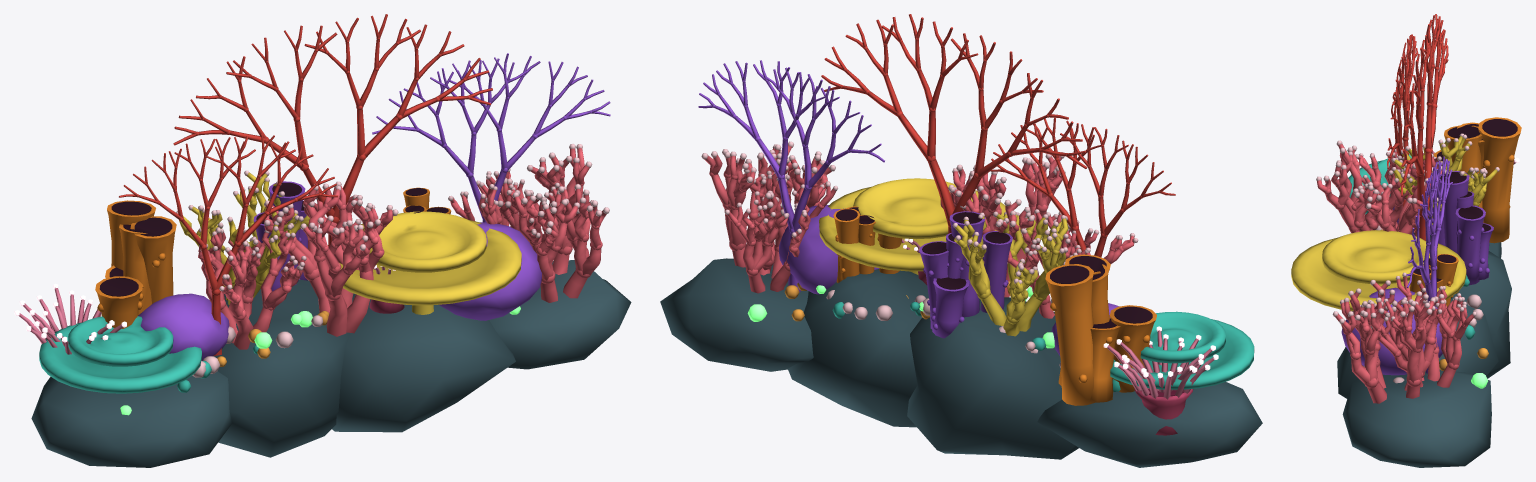
File: reef_large.glb
3 renders of one model, left to right at view 1: azimuth 30°, elevation 25°; view 2: azimuth 150°, elevation 25°; view 3: azimuth 270°, elevation 25°, orthographic. The views are drawn at different scales.
Visible parts, largest first — view 1: reef_large_mesh; view 2: reef_large_mesh; view 3: reef_large_mesh.
Boxes of the visible parts, x1,y1,x2,y2 form: reef_large_mesh: [14, 14, 631, 467]; reef_large_mesh: [660, 14, 1262, 467]; reef_large_mesh: [1291, 14, 1521, 467].
Bounding box in the file's own units: 5.28 × 3.57 × 2.05.
